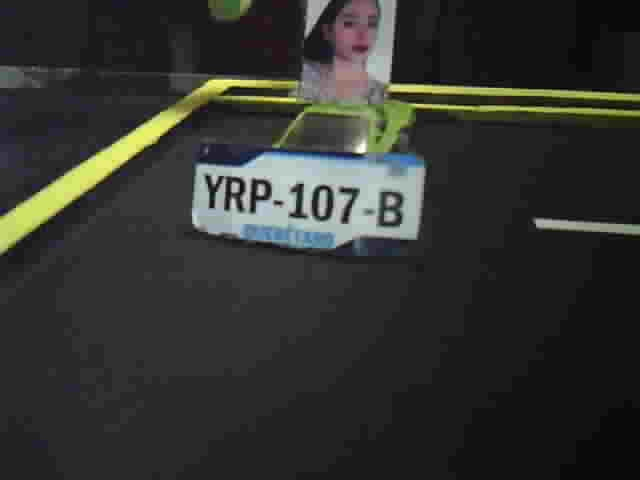PLACA: (188, 141, 431, 265)
ROSTRO: (304, 1, 390, 104)
